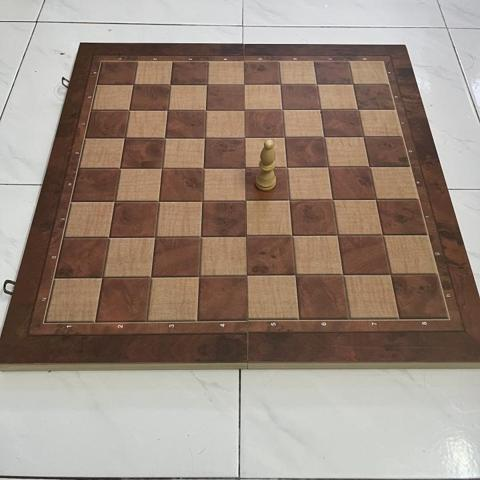xcorner: (344, 77, 361, 94), (198, 76, 215, 93), (161, 76, 178, 93), (124, 76, 141, 93), (349, 102, 366, 119), (311, 102, 328, 119), (273, 102, 290, 119), (235, 102, 252, 119), (197, 102, 214, 119), (159, 102, 176, 119), (120, 102, 137, 119), (360, 159, 377, 176), (319, 159, 336, 176), (280, 192, 297, 209), (237, 192, 254, 209), (283, 228, 300, 245), (238, 228, 255, 245), (192, 228, 209, 245), (381, 267, 398, 284), (334, 267, 351, 284), (286, 267, 303, 284), (239, 268, 256, 285), (191, 268, 208, 285), (143, 268, 160, 285), (308, 77, 325, 93), (271, 77, 288, 93), (235, 77, 252, 93), (315, 130, 332, 146), (236, 130, 253, 146), (196, 130, 213, 146), (156, 130, 173, 146), (116, 130, 133, 146), (278, 160, 295, 176), (236, 160, 253, 176), (195, 160, 212, 176), (153, 160, 170, 176), (111, 160, 128, 176), (367, 192, 383, 209), (324, 192, 340, 209), (194, 192, 210, 209), (150, 193, 167, 209), (106, 193, 123, 209), (329, 228, 345, 245), (101, 229, 118, 245), (95, 268, 111, 285), (355, 130, 371, 146), (276, 130, 292, 146), (374, 228, 390, 244), (147, 229, 163, 245)
